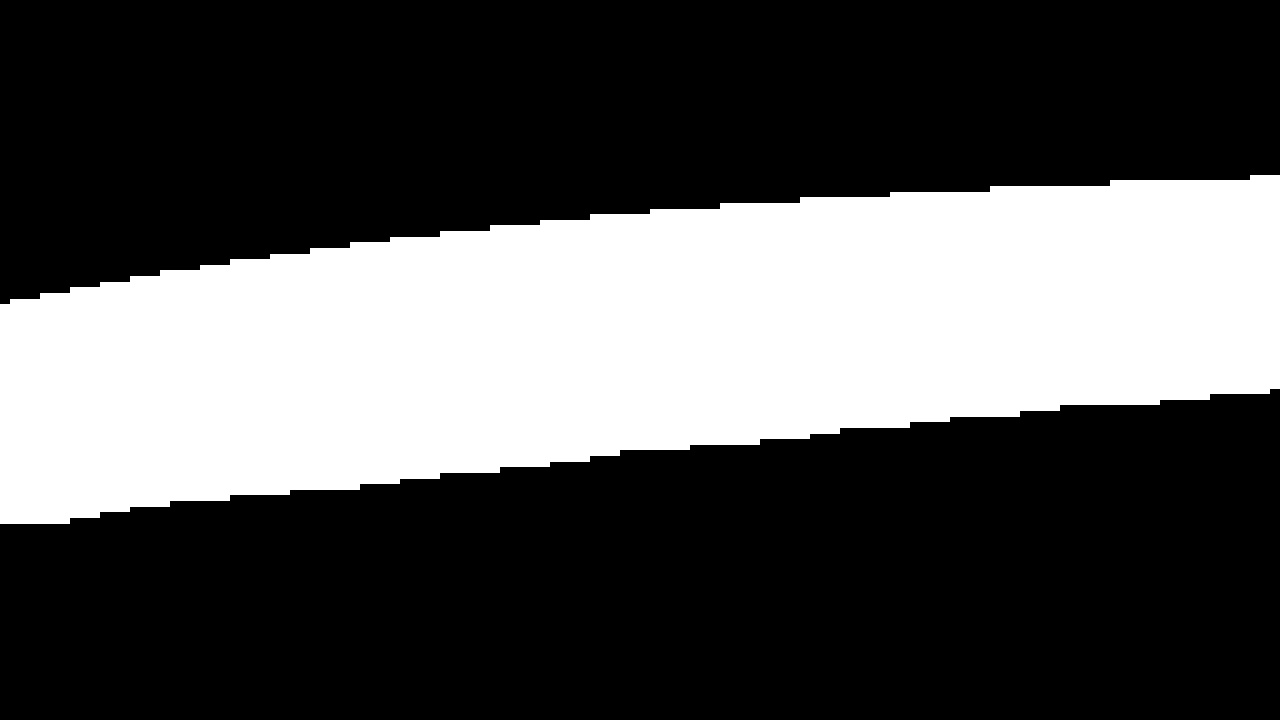Turbine: (5, 158, 1257, 545)
